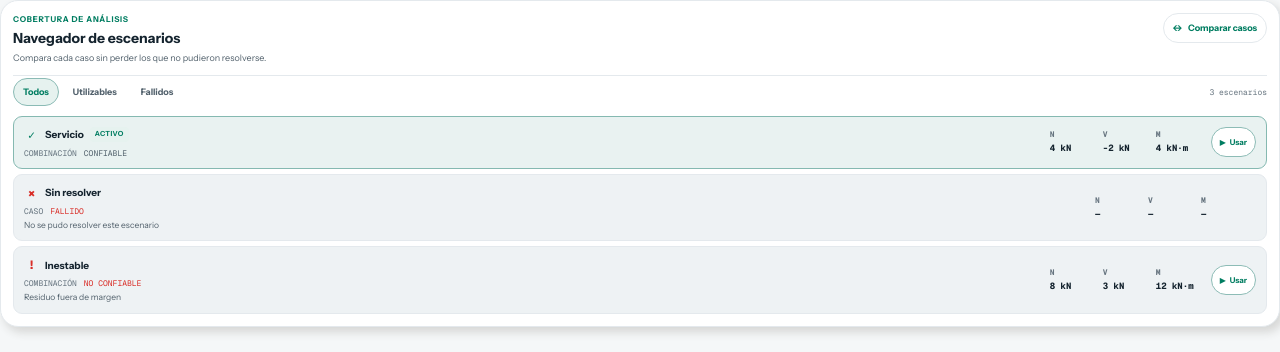
it: ScenarioNavigator › filters to failed scenarios without losing the selected filter state
Step 1. Click the button "Fallidos" → (157, 92), box [131,78,183,106]
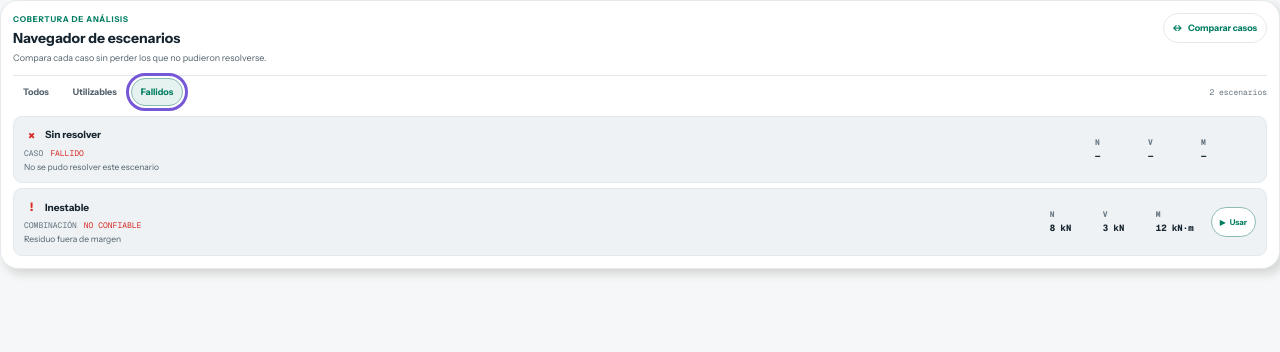
Expected: the text "Sin resolver" is shown, [45,127,101,142]
Result: the text "Servicio" is gone
